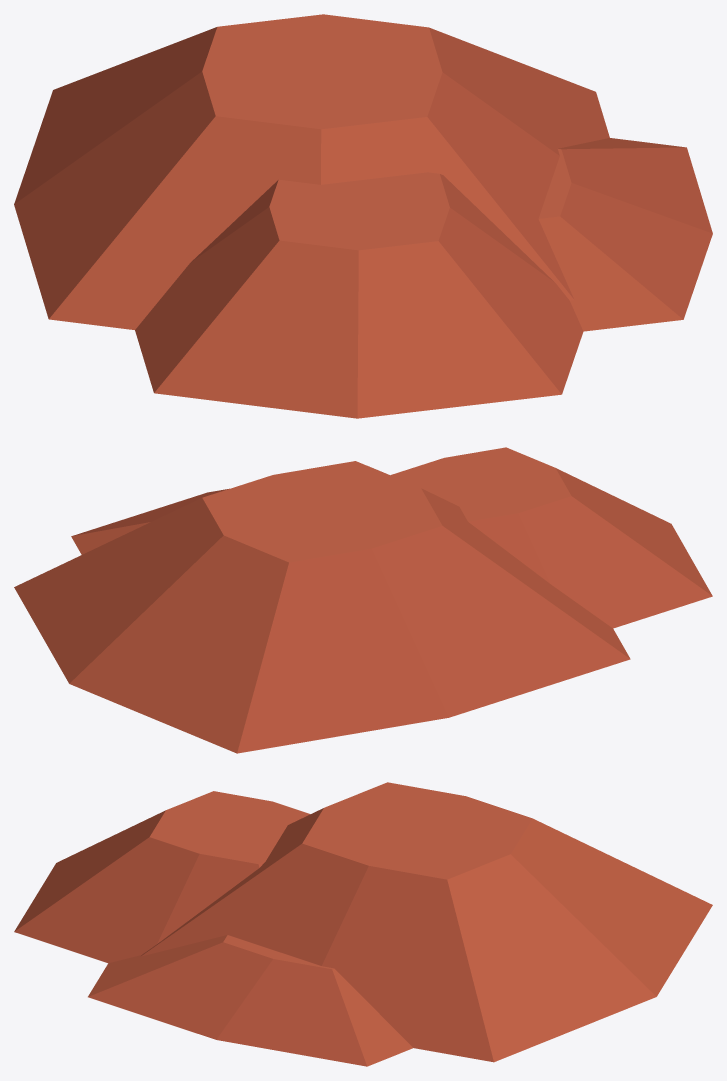
The model's file is SM_Env_Hills_01.fbx.
3 views of the same model, one above another, from view 1: azimuth 30°, elevation 25°; view 2: azimuth 150°, elevation 25°; view 3: azimuth 270°, elevation 25° (orthographic). The views are drawn at different scales.
Visible parts, largest first — view 1: SM_Env_Hills_01; view 2: SM_Env_Hills_01; view 3: SM_Env_Hills_01.
Boxes of the visible parts, x1,y1,x2,y2 form: SM_Env_Hills_01: (14, 14, 712, 418); SM_Env_Hills_01: (14, 447, 712, 753); SM_Env_Hills_01: (14, 782, 712, 1066).
Bounding box in the file's own units: 40.75 × 7.96 × 47.36.
